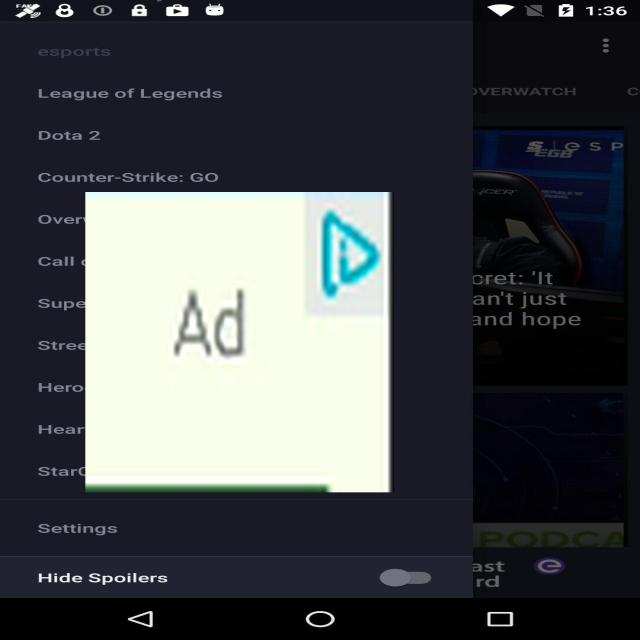sneaking: (85, 192, 394, 492)
